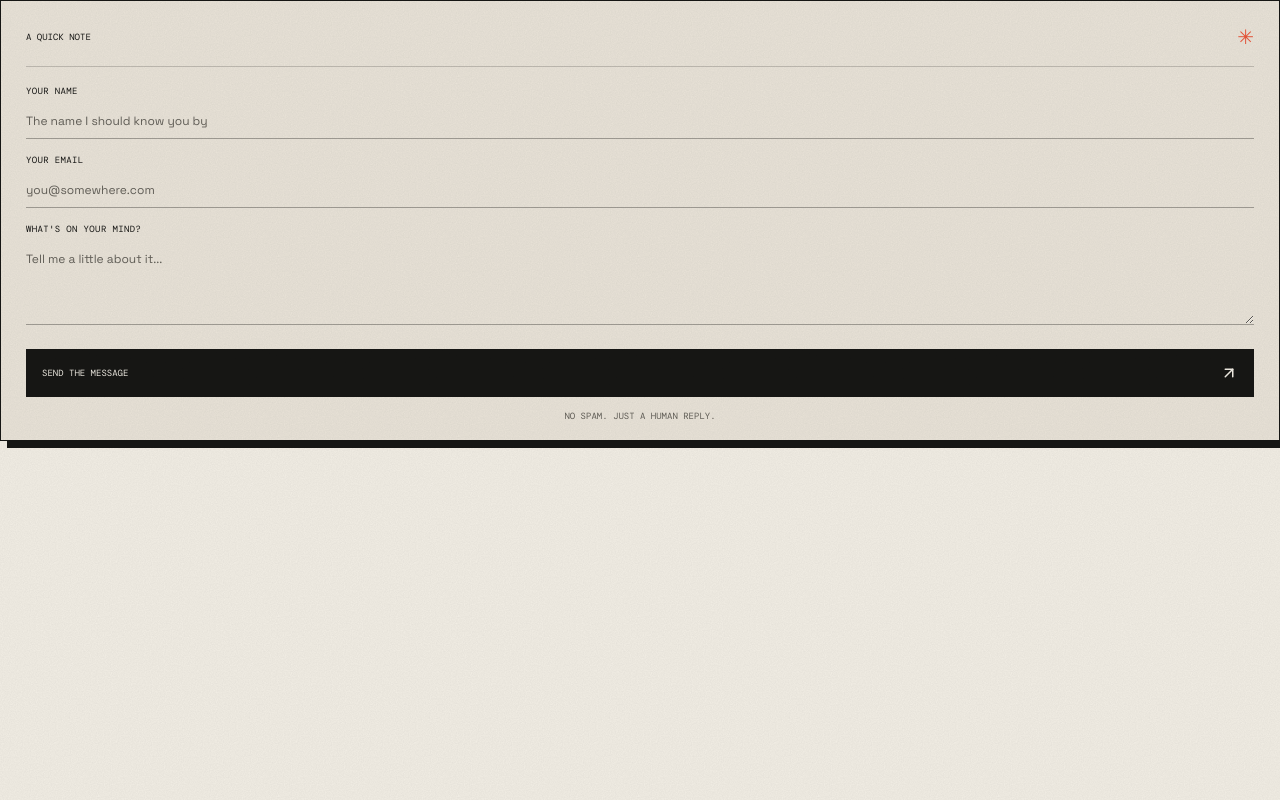
Test case: ContactForm › shows the server's error and keeps what the visitor typed
The width and height of the screenshot is (1280, 800).
Type "Ada Lovelace" into the field labelled "YOUR NAME". click: x=640, y=122
box: [26, 104, 1254, 139]
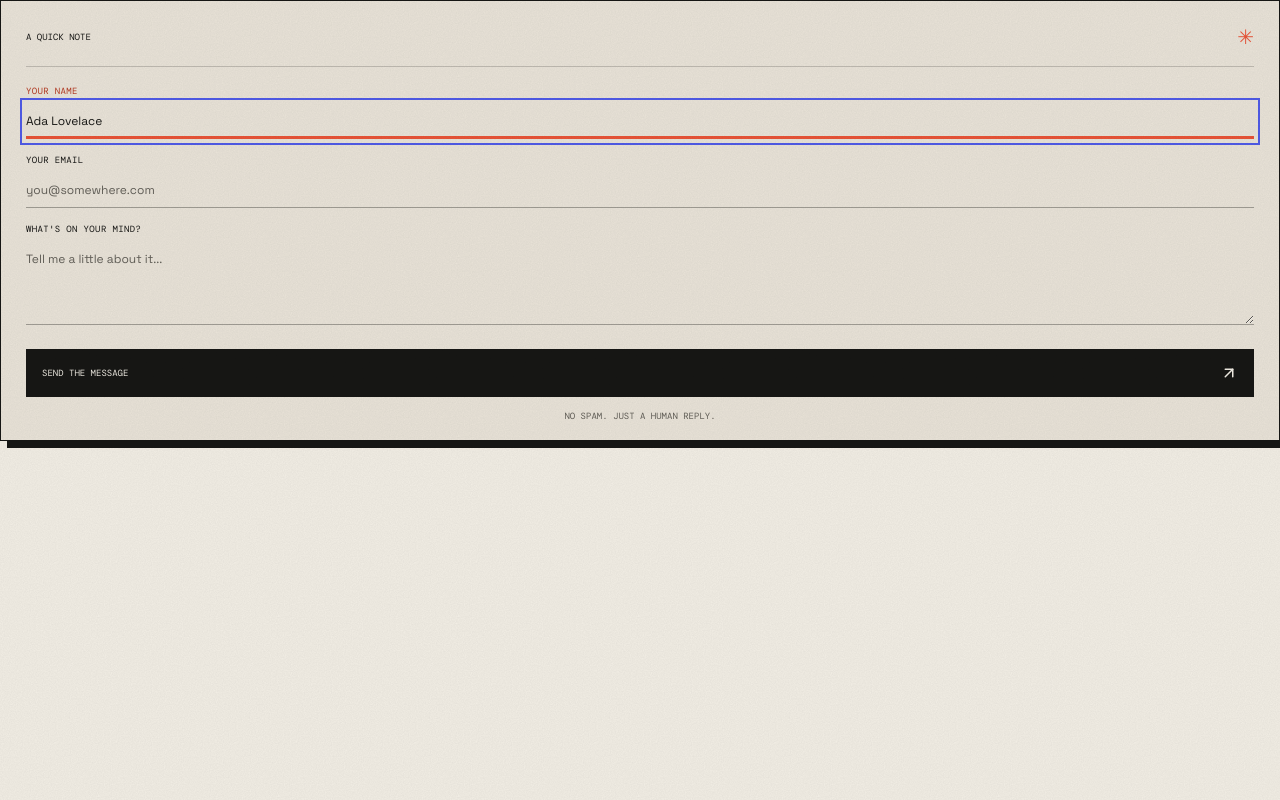
Type "ada@example.com" into the field labelled "YOUR EMAIL". click: x=640, y=190
box: [26, 173, 1254, 208]
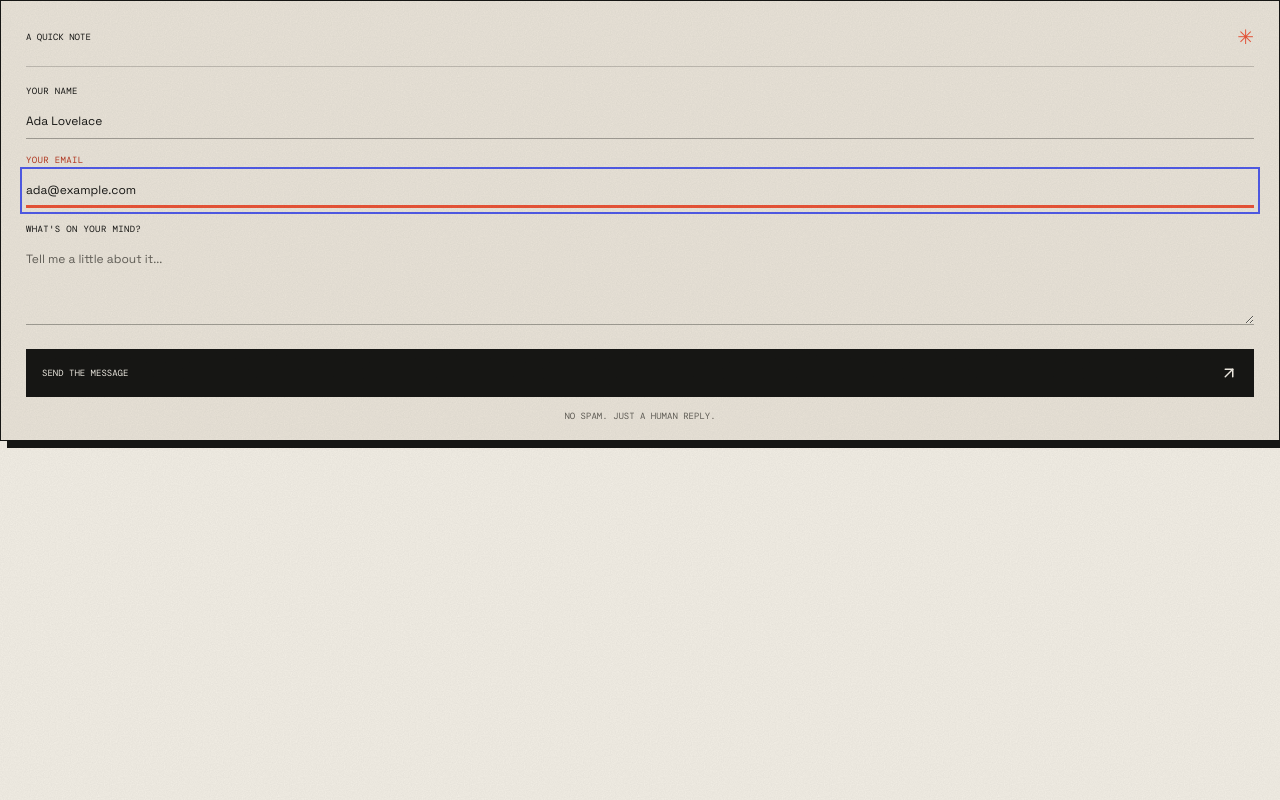
Type "Let's build something." into the text box labelled "WHAT'S ON YOUR MIND?". click: x=640, y=284
box: [26, 242, 1254, 325]
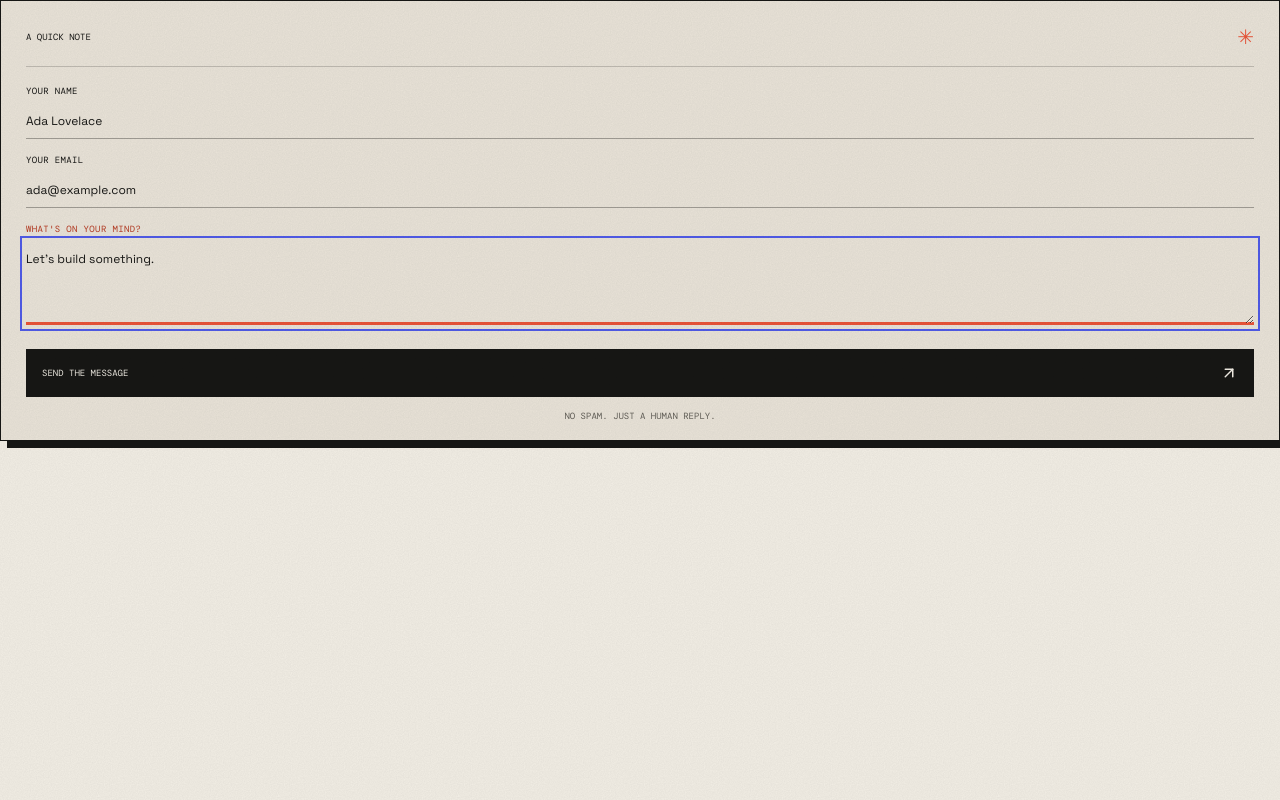
Click the button "SEND THE MESSAGE". click: x=85, y=373
box: [26, 349, 1254, 397]
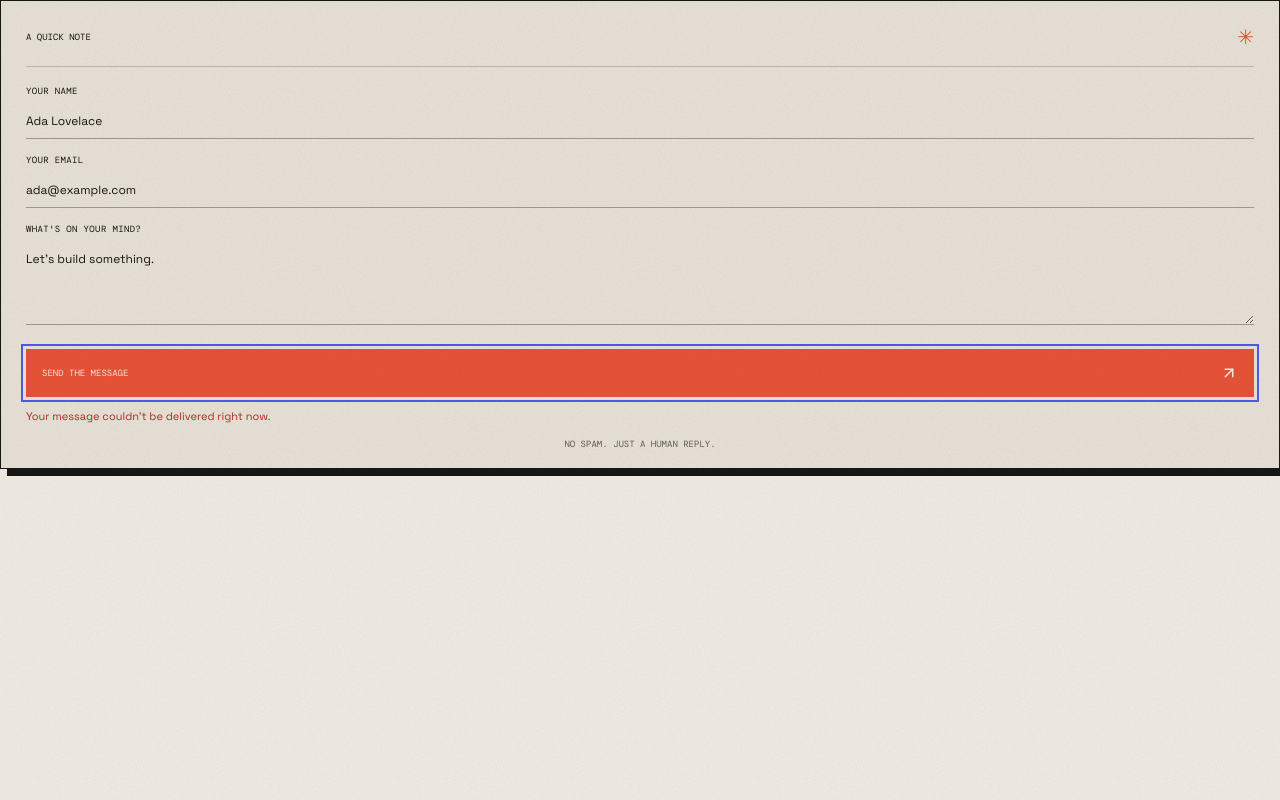
Expected: the message reads "Your message couldn't be delivered right now.", [26, 409, 270, 423]
